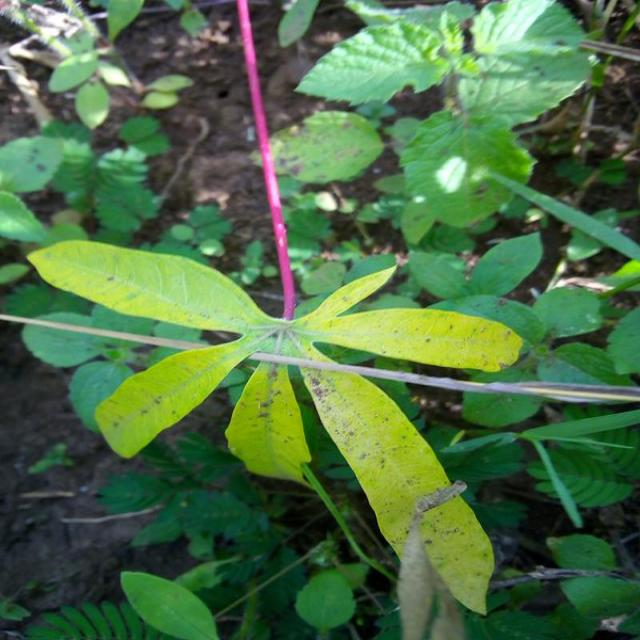cassava leaf: (26, 232, 524, 616)
